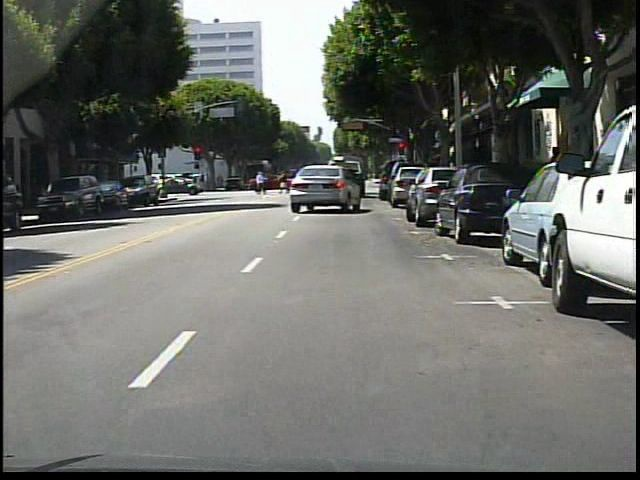person: (545, 144, 571, 202), (277, 168, 290, 196), (255, 171, 268, 195), (262, 173, 268, 188)
